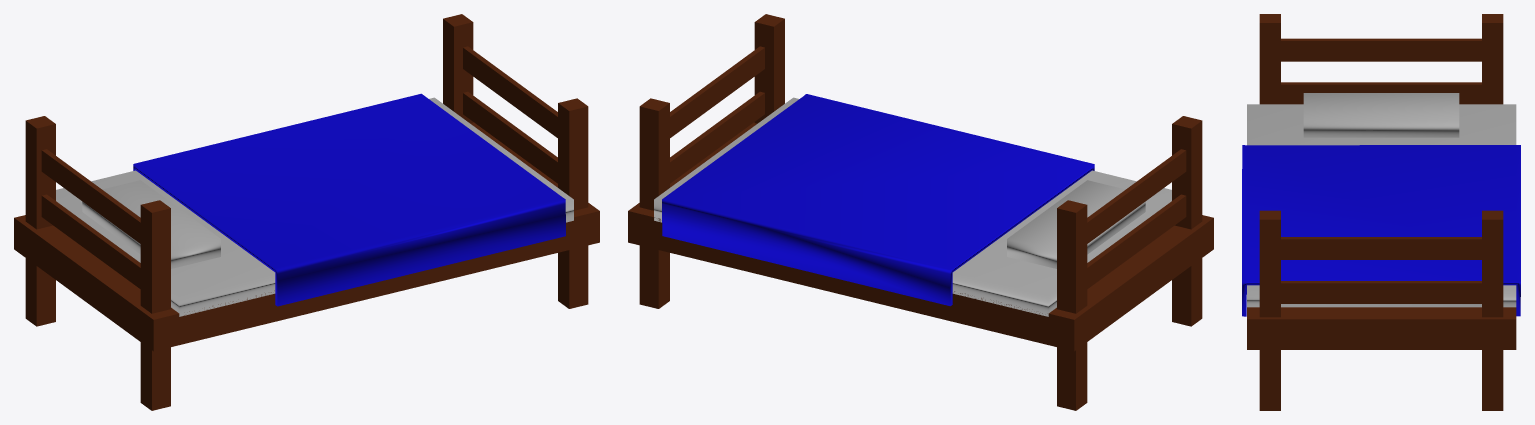
The model's file is Bed.obj.
3 views of the same model, side by side, from view 1: azimuth 30°, elevation 25°; view 2: azimuth 150°, elevation 25°; view 3: azimuth 270°, elevation 25° (orthographic). The views are drawn at different scales.
Visible parts, largest first — view 1: 掛け布団, 木足, 土台, マット, 柵, 柵.001, 枕; view 2: 掛け布団, 木足, 土台, マット, 柵, 柵.001, 枕; view 3: 掛け布団, 木足, 土台, 柵, マット, 柵.001, 枕.
Part boxes in pixels (x1=…): 掛け布団: x1=133, y1=93, x2=565, y2=306; 木足: x1=25, y1=14, x2=588, y2=410; 土台: x1=14, y1=122, x2=599, y2=351; マット: x1=56, y1=97, x2=573, y2=316; 柵: x1=41, y1=46, x2=557, y2=243; 柵.001: x1=41, y1=91, x2=557, y2=288; 枕: x1=82, y1=180, x2=220, y2=268; 掛け布団: x1=662, y1=94, x2=1094, y2=306; 木足: x1=639, y1=14, x2=1202, y2=410; 土台: x1=628, y1=122, x2=1213, y2=351; マット: x1=654, y1=97, x2=1171, y2=316; 柵: x1=670, y1=46, x2=1186, y2=243; 柵.001: x1=670, y1=91, x2=1186, y2=288; 枕: x1=1007, y1=180, x2=1145, y2=268; 掛け布団: x1=1242, y1=145, x2=1520, y2=316; 木足: x1=1259, y1=14, x2=1503, y2=410; 土台: x1=1247, y1=307, x2=1516, y2=349; 柵: x1=1281, y1=38, x2=1481, y2=259; マット: x1=1247, y1=104, x2=1516, y2=307; 柵.001: x1=1281, y1=82, x2=1481, y2=303; 枕: x1=1303, y1=93, x2=1459, y2=137.
Bounding box in the file's own units: 2.22 × 0.9402 × 1.24.
